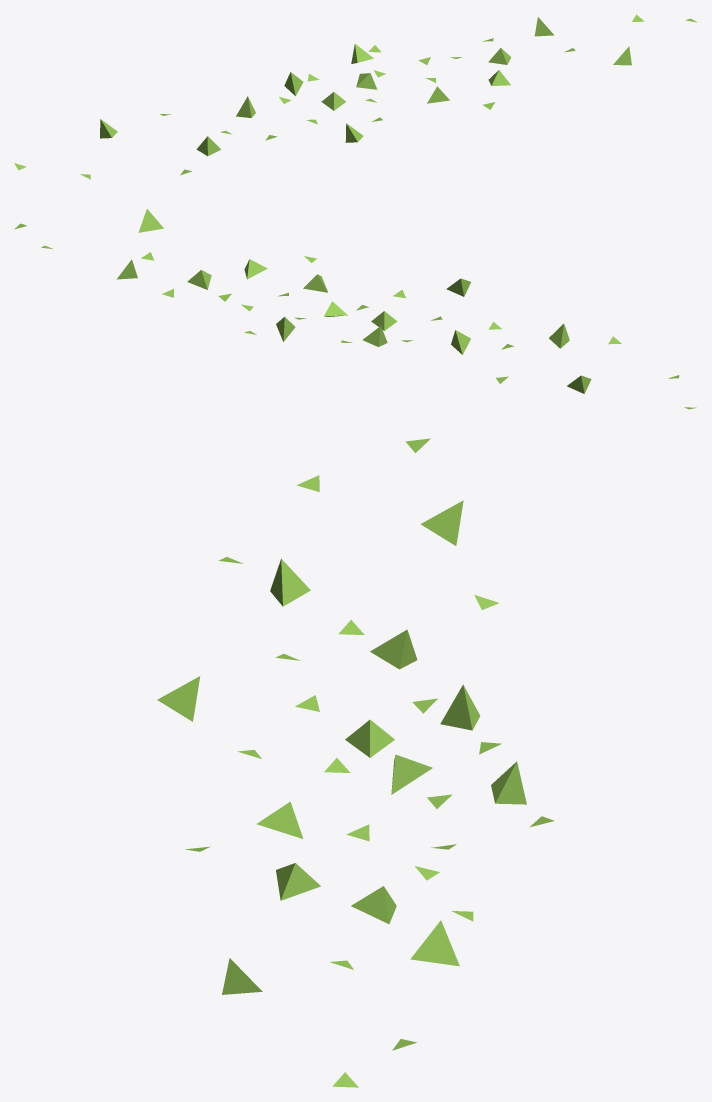
The model's file is mesh_Rubble2_v2.fbx.
3 views of the same model, one above another, from view 1: azimuth 30°, elevation 25°; view 2: azimuth 150°, elevation 25°; view 3: azimuth 270°, elevation 25° (orthographic). The views are drawn at different scales.
Visible parts, largest first — view 1: mesh_Rubble2_v2_0; view 2: mesh_Rubble2_v2_0; view 3: mesh_Rubble2_v2_0.
Part boxes in pixels (box(x1,y1,x2,y2)): mesh_Rubble2_v2_0: box(14, 14, 697, 179); mesh_Rubble2_v2_0: box(14, 209, 696, 409); mesh_Rubble2_v2_0: box(157, 438, 554, 1087).
Bounding box in the file's own units: 255 × 8.64 × 66.56.
